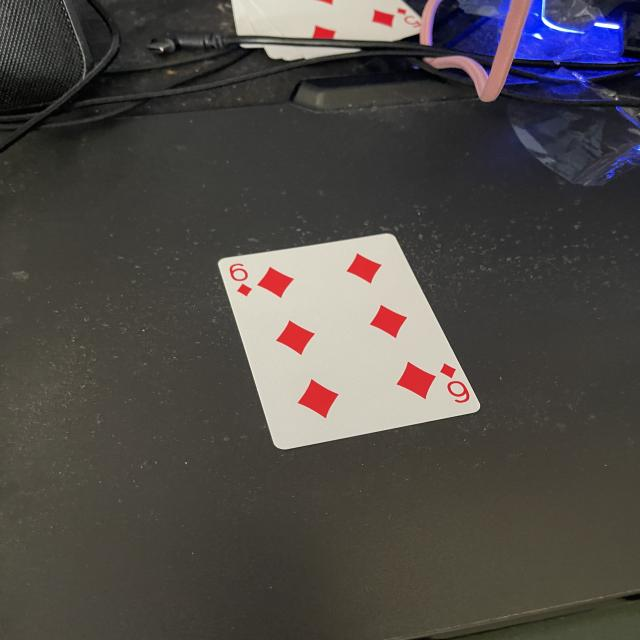6 of diamonds: (219, 234, 478, 448)
